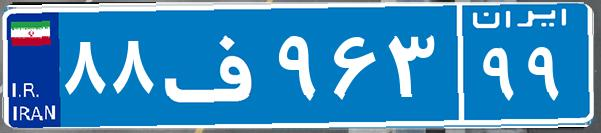3: (385, 28, 445, 110)
6: (330, 28, 385, 110)
8: (57, 26, 110, 107), (110, 28, 158, 105)
9: (273, 28, 330, 110), (475, 38, 525, 113), (525, 38, 570, 115)
ف: (158, 15, 273, 115)
